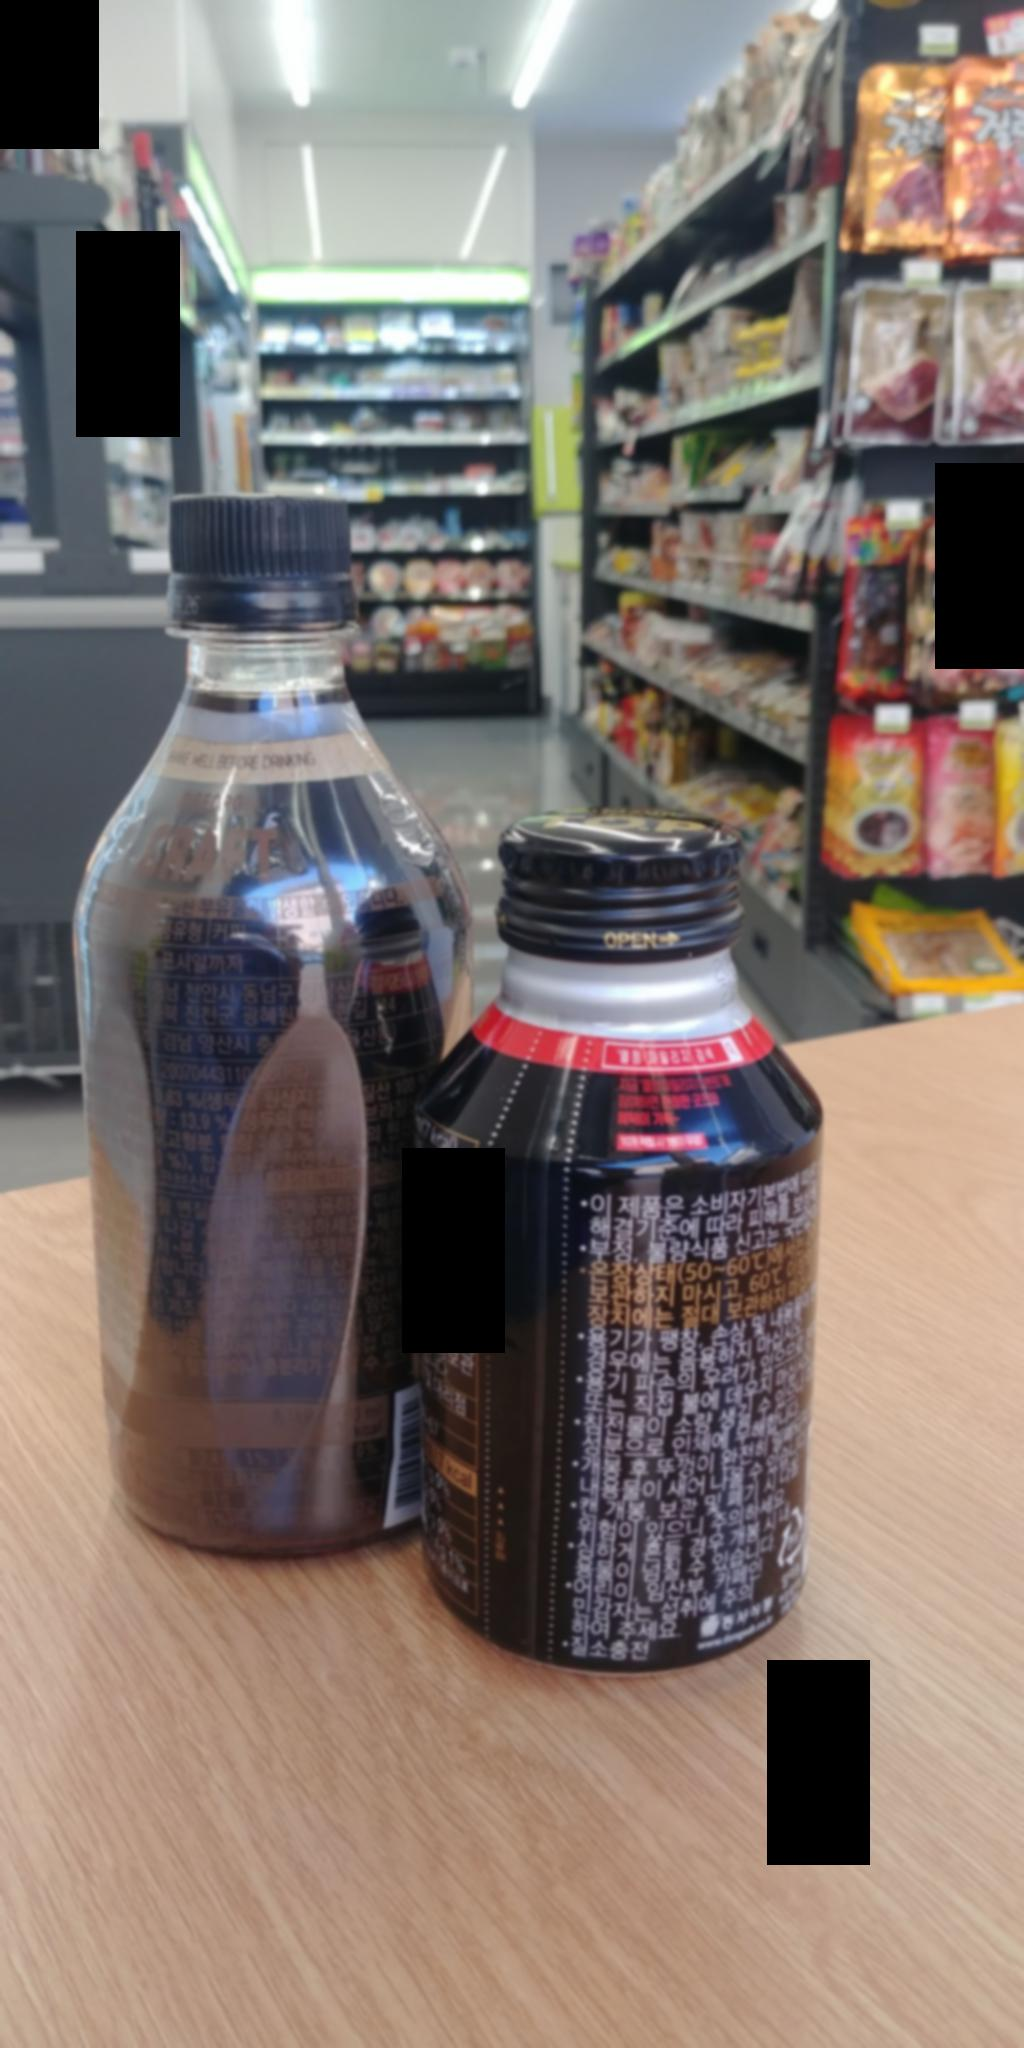TOP_black: (455, 812, 814, 1680)
georgiacraft_black: (46, 473, 426, 1601)
